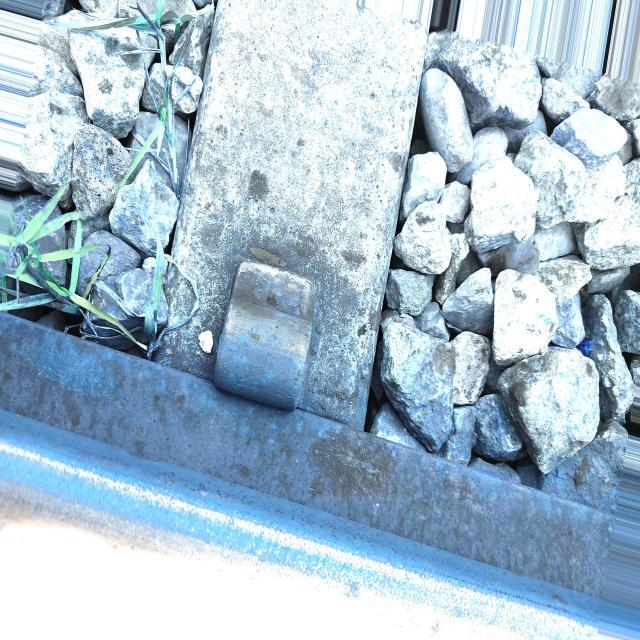Missing Fastener: (178, 194, 359, 463)
